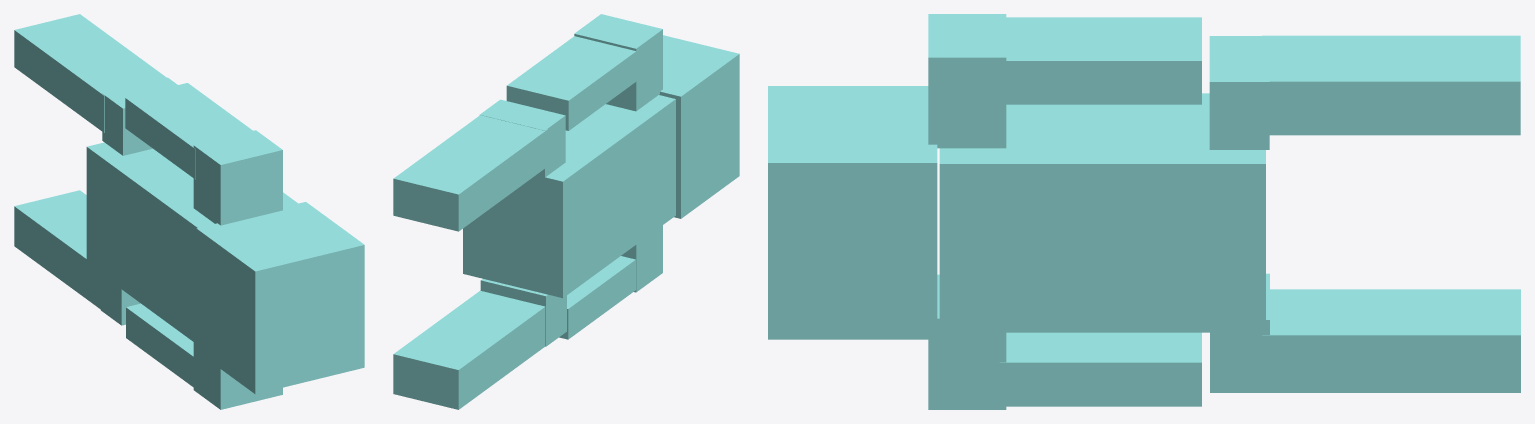
File: NPC.fbx
3 renders of one model, left to right at view 1: azimuth 30°, elevation 25°; view 2: azimuth 150°, elevation 25°; view 3: azimuth 270°, elevation 25°, orthographic. The views are drawn at different scales.
Parts seen in each view (by area): view 1: man; view 2: man; view 3: man.
Boxes of the visible parts, x1=… form: man: x1=14, y1=14, x2=364, y2=409; man: x1=393, y1=14, x2=739, y2=409; man: x1=768, y1=14, x2=1520, y2=409.
Size of the model in its own units: 1.58 by 3.37 by 6.53.
